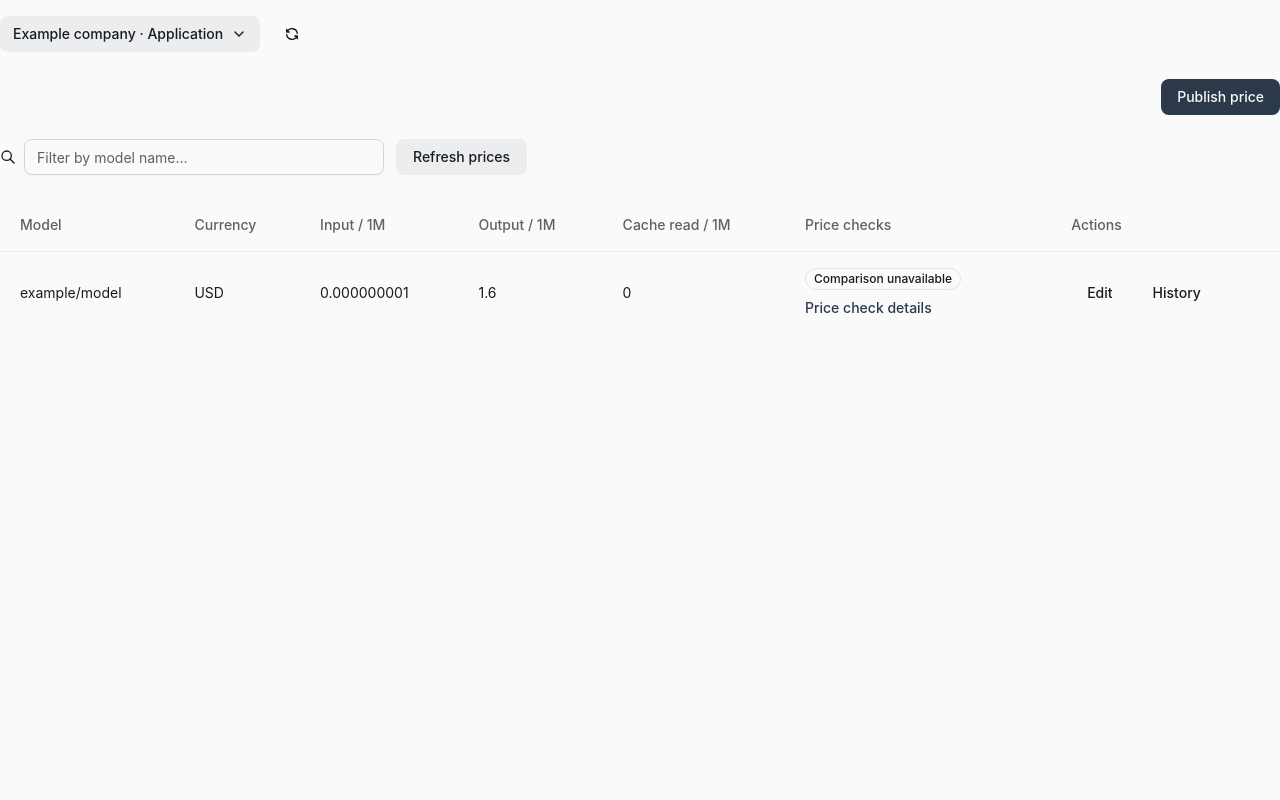
Test case: platform customer price workflow › locks publication after an ambiguous transport failure until the current price is read
Click the button with aria-label "Edit example/model". click: (1100, 293)
box: left=1071, top=275, right=1129, bottom=311
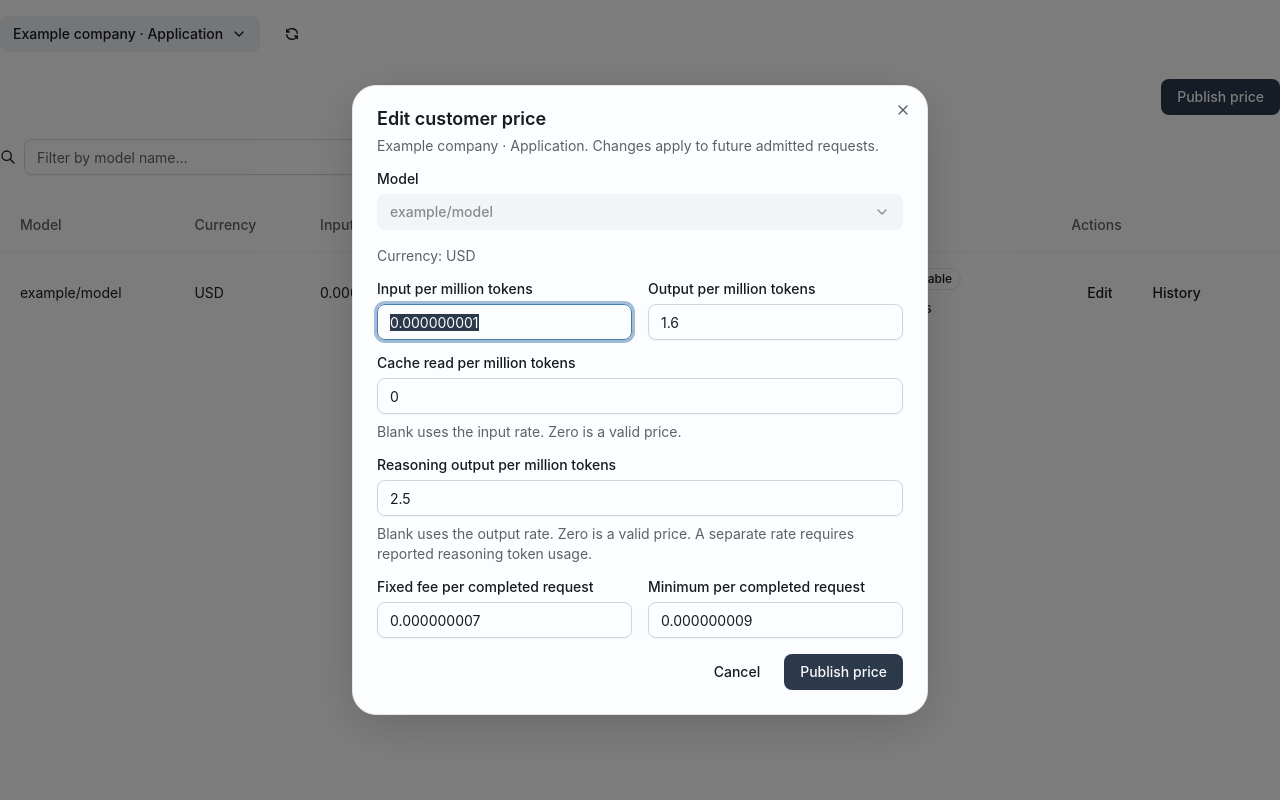
Click the button "Publish price". click: (844, 672)
box: left=784, top=654, right=903, bottom=690
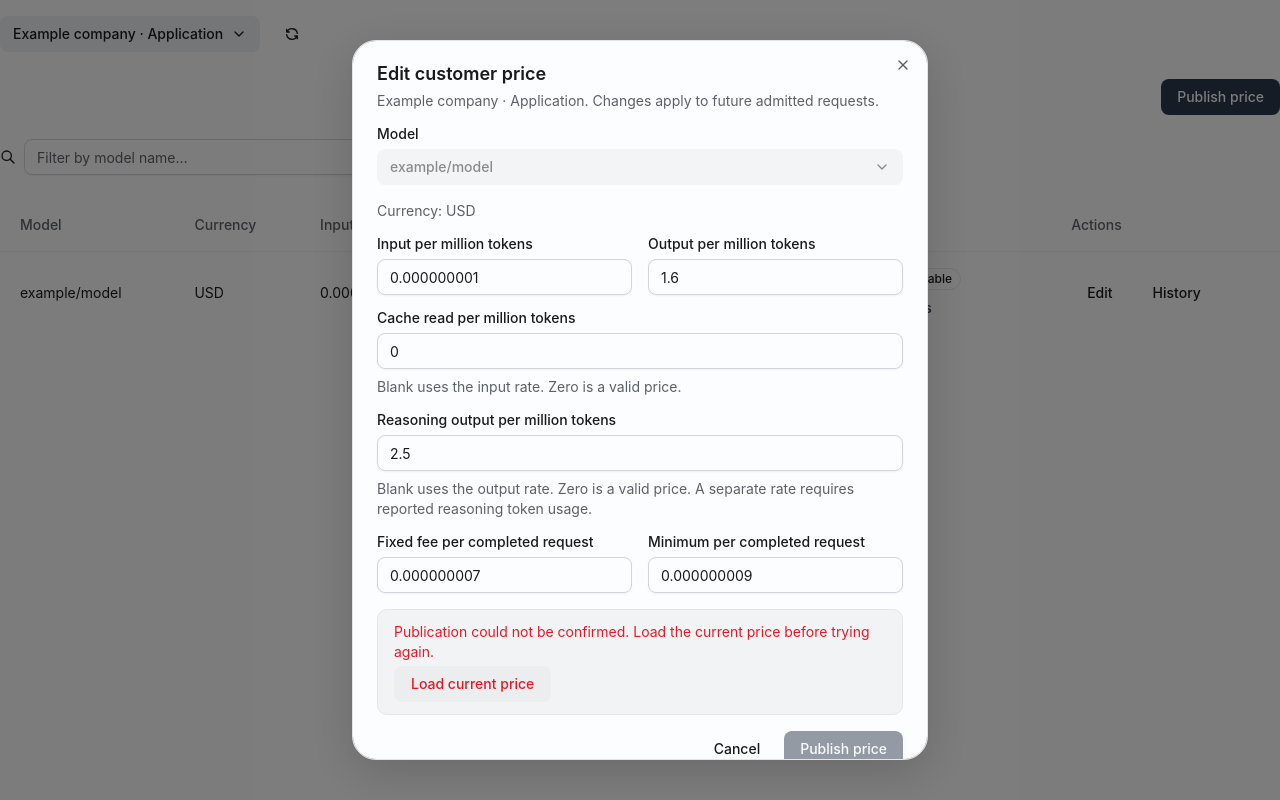
Result: the text "Publication could not be confirmed. Load the current price before trying again." is shown at left=394, top=623, right=870, bottom=660
Result: the button "Publish price" is disabled at left=784, top=731, right=903, bottom=760
